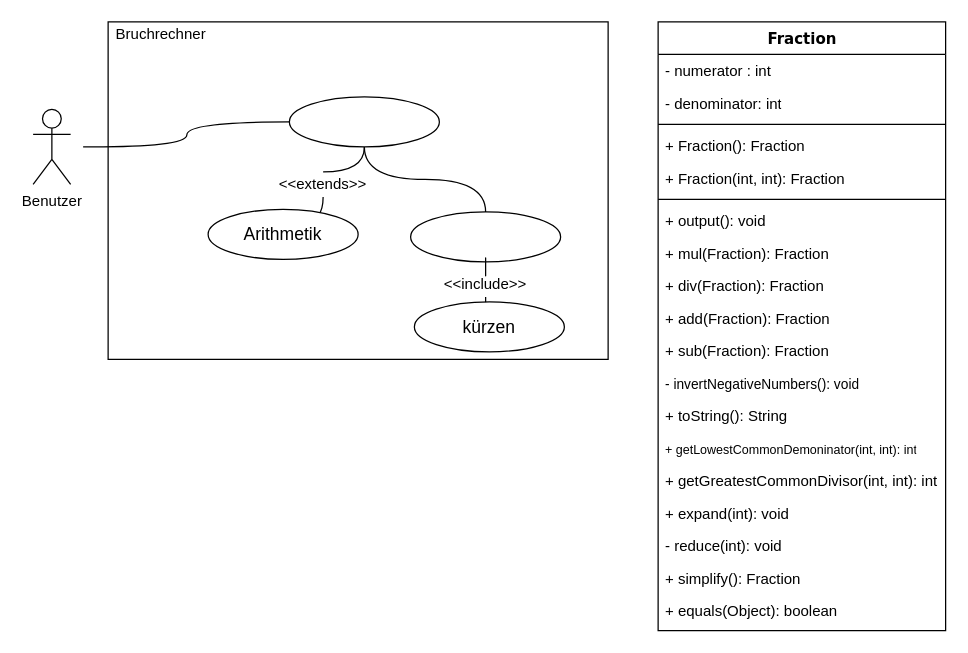
Image size: 968x653. Some labels were removed from this diagram. The shapes that lost their labels are listed below. From the top down, each one's centre as x and y in pixels, then its label:
At point (363, 121): "Bruch erstellen".
At point (485, 236): "ausgeben".
